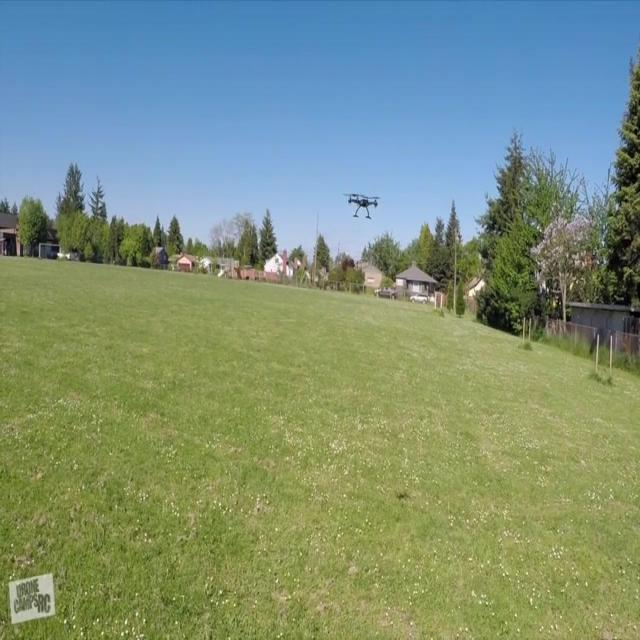UAV: (344, 193, 381, 220)
